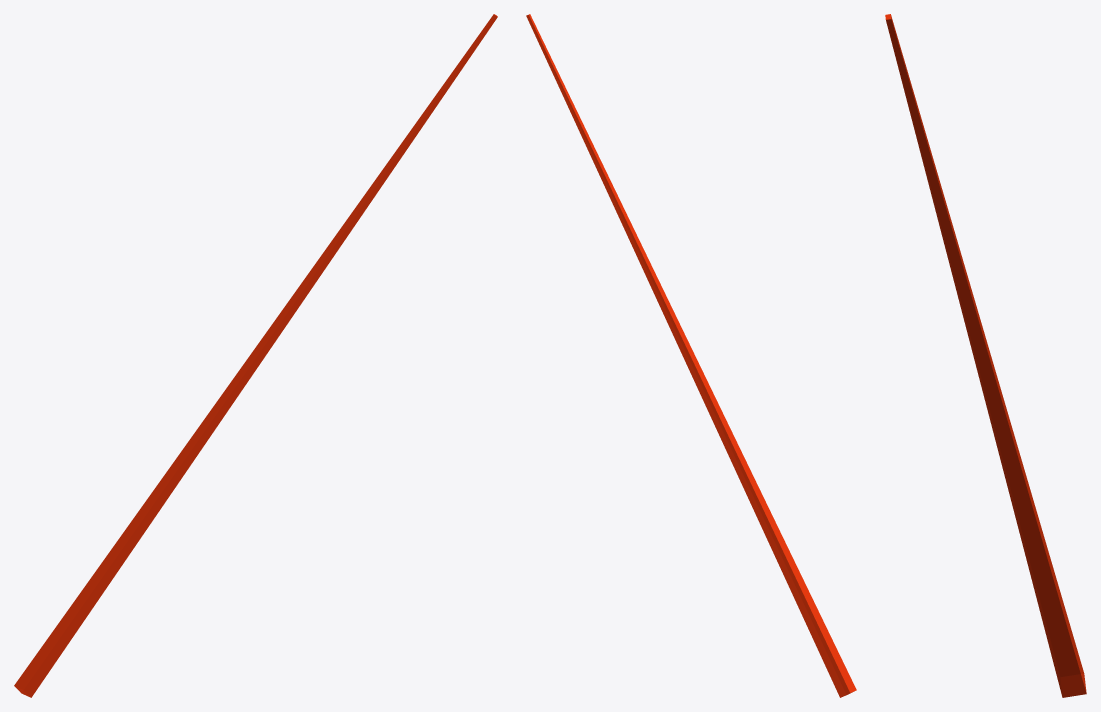
File: Event_421127236_EBrechit_6.fbx
The picture shows the model from 3 angles, left to right: view 1: azimuth 30°, elevation 25°; view 2: azimuth 150°, elevation 25°; view 3: azimuth 270°, elevation 25°; orthographic projection. The views are drawn at different scales.
Visible parts, largest first — view 1: Model; view 2: Model; view 3: Model.
Boxes of the visible parts, x1,y1,x2,y2 form: Model: [14, 14, 497, 697]; Model: [526, 14, 856, 697]; Model: [885, 14, 1086, 697].
Bounding box in the file's own units: 7.73 × 10.9 × 1.98.
